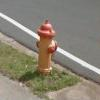Hydrant: (30, 13, 62, 84)
